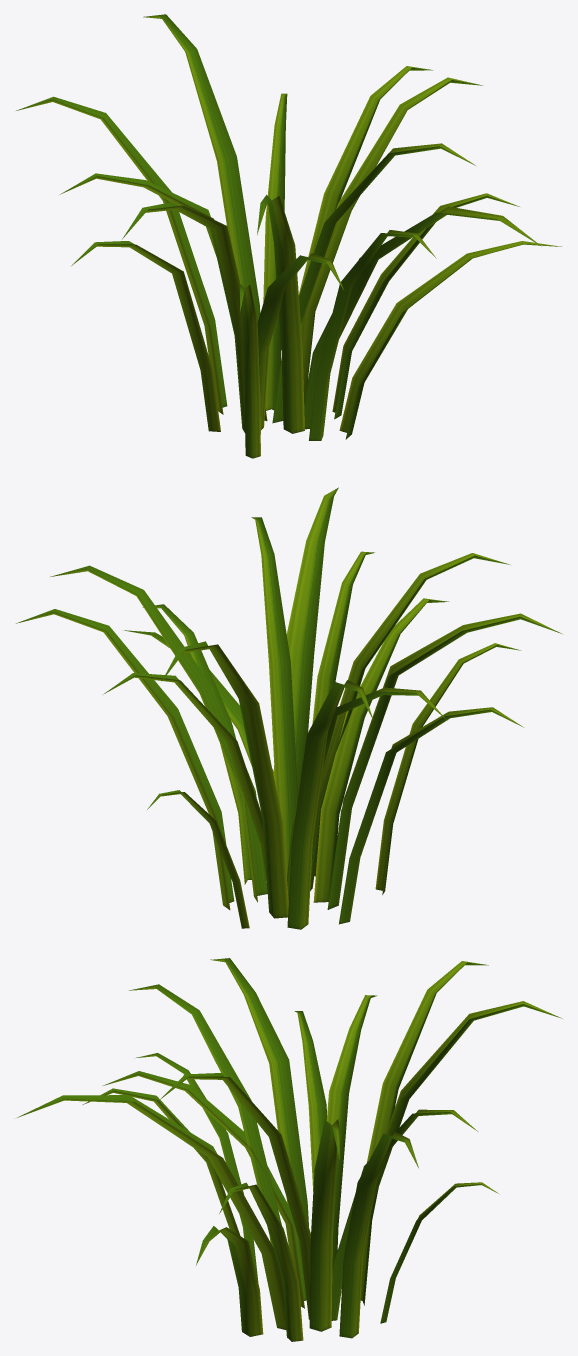
File: Mesh_Grass.FBX
The picture shows the model from 3 angles, top to bottom: view 1: azimuth 30°, elevation 25°; view 2: azimuth 150°, elevation 25°; view 3: azimuth 270°, elevation 25°; orthographic projection. The views are drawn at different scales.
Visible parts, largest first — view 1: Plane001; view 2: Plane001; view 3: Plane001.
Boxes of the visible parts, <box> form: Plane001: <box>16,14,561,458</box>; Plane001: <box>16,487,561,929</box>; Plane001: <box>17,958,562,1341</box>.
Bounding box in the file's own units: 38.63 × 27.25 × 43.39.
